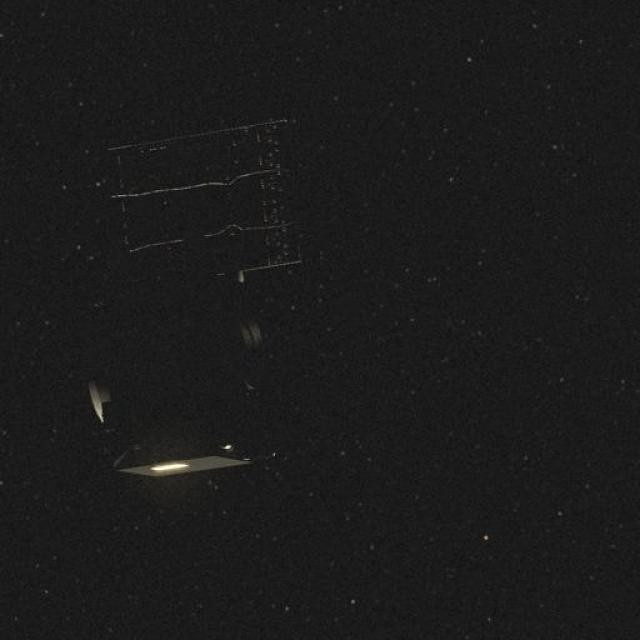proba_3_csc: (63, 82, 320, 485)
